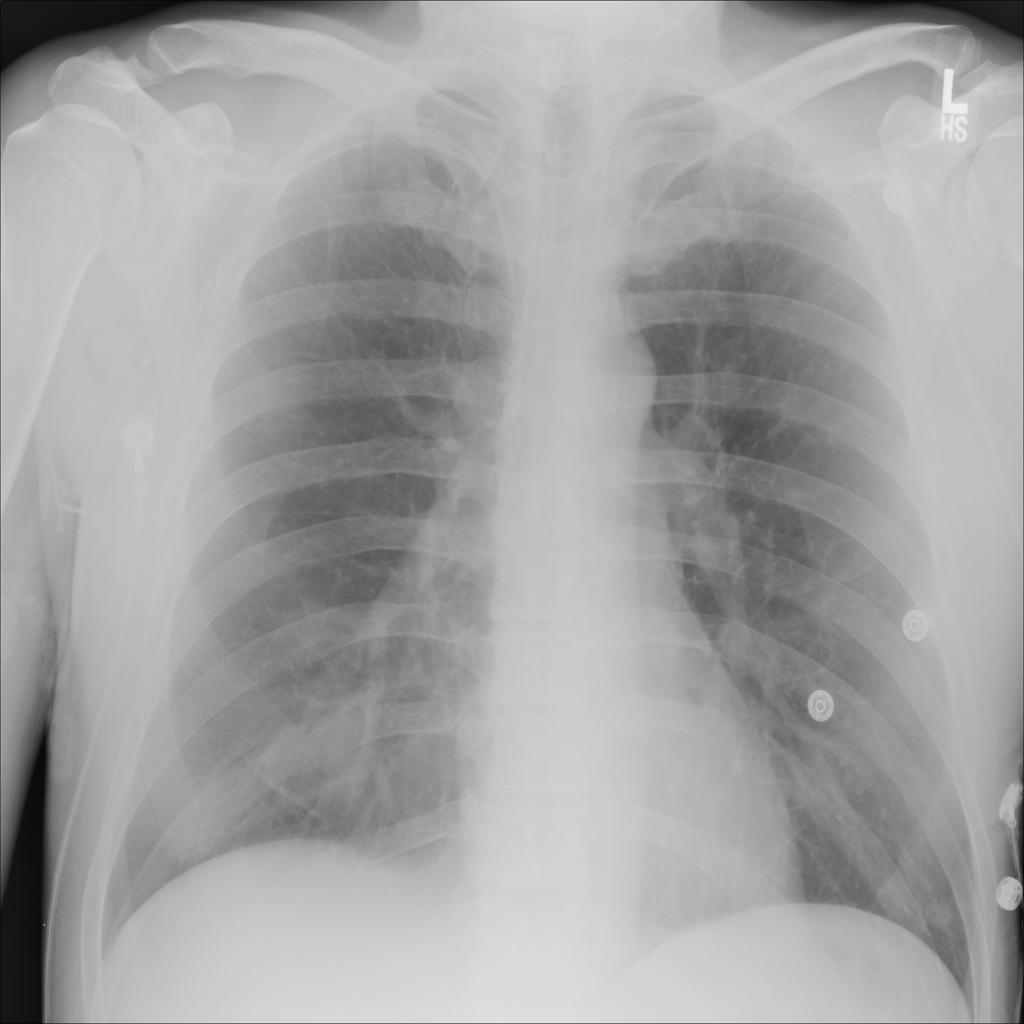nodule: (248, 684, 374, 821), (914, 886, 963, 938)
